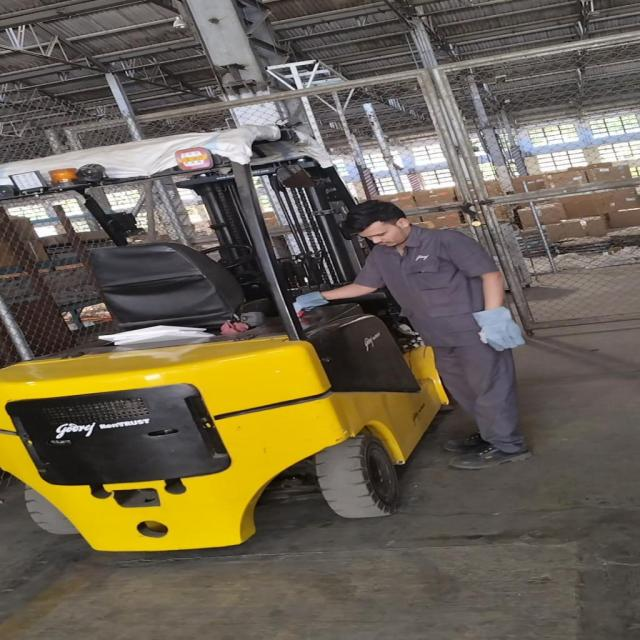Gloves-Detection: (472, 305, 528, 357), (280, 292, 330, 318)
